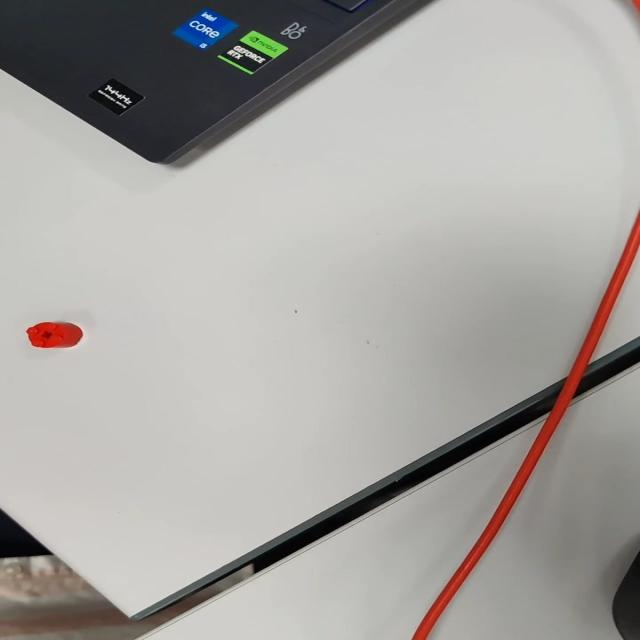S2x2x1: (22, 320, 84, 350)
